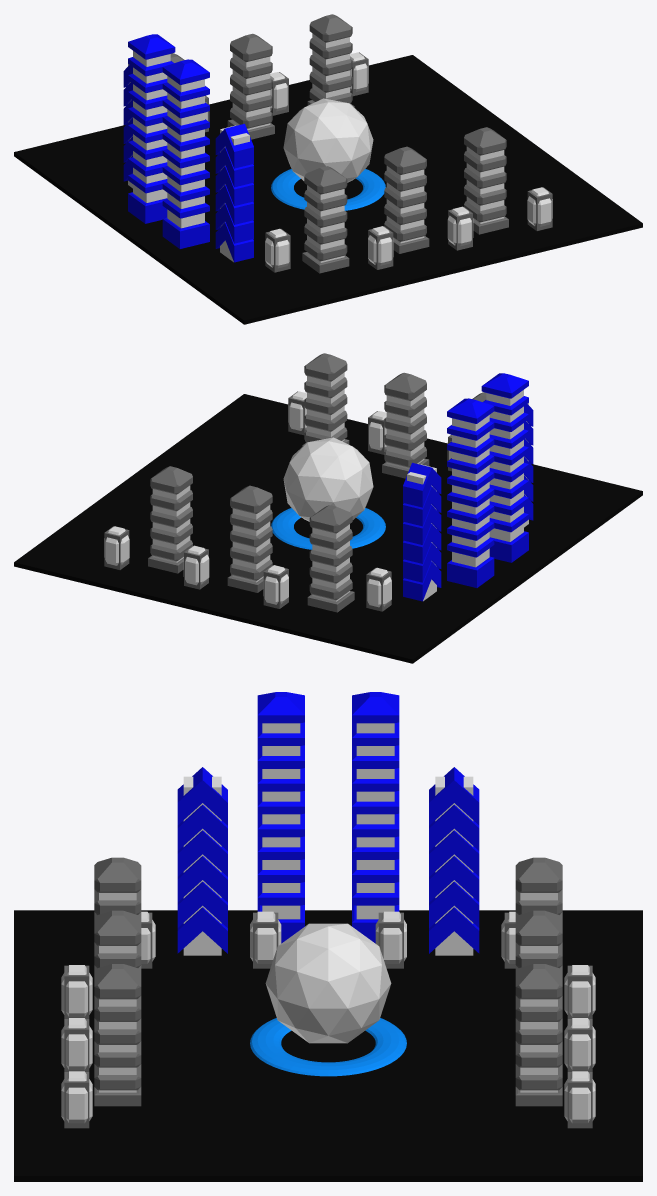
Rendered from CiudadVRDefninitivo.fbx.
3 views of the same model, one above another, from view 1: azimuth 30°, elevation 25°; view 2: azimuth 150°, elevation 25°; view 3: azimuth 270°, elevation 25° (orthographic). The views are drawn at different scales.
Visible parts, largest first — view 1: Cube, Icosphere, Cube.110, Cube.001, Torus, Cube.045, Cube.019, Cube.079, Cube.026, Cube.012, Cube.086, Cube.088 (+47 smaller); view 2: Cube, Icosphere, Cube.001, Cube.110, Torus, Cube.002, Cube.079, Cube.086, Cube.019, Cube.072, Cube.026, Cube.074 (+47 smaller); view 3: Cube, Icosphere, Torus, Cube.001, Cube.110, Cube.088, Cube.032, Cube.074, Cube.014, Cube.081, Cube.021, Cube.011 (+47 smaller).
Part boxes in pixels (x1,y1,x2,y2): Cube: [14, 55, 642, 324]; Icosphere: [283, 98, 373, 182]; Cube.110: [167, 76, 204, 228]; Cube.001: [133, 51, 170, 202]; Torus: [271, 169, 385, 210]; Cube.045: [162, 217, 209, 248]; Cube.019: [386, 166, 424, 243]; Cube.079: [232, 53, 270, 130]; Cube.026: [466, 146, 504, 223]; Cube.012: [307, 185, 344, 262]; Cube.086: [312, 33, 349, 102]; Cube.088: [309, 14, 352, 42]; Cube: [14, 394, 642, 663]; Icosphere: [283, 437, 373, 521]; Cube.001: [452, 415, 489, 567]; Cube.110: [486, 390, 523, 541]; Torus: [271, 508, 385, 549]; Cube.002: [447, 556, 494, 587]; Cube.079: [232, 505, 270, 582]; Cube.086: [152, 485, 190, 562]; Cube.019: [386, 392, 424, 469]; Cube.072: [312, 524, 349, 601]; Cube.026: [307, 372, 344, 441]; Cube.074: [309, 505, 352, 533]; Cube: [14, 910, 642, 1181]; Icosphere: [265, 923, 391, 1043]; Torus: [250, 1018, 406, 1076]; Cube.001: [356, 723, 394, 919]; Cube.110: [262, 723, 300, 919]; Cube.088: [515, 964, 562, 999]; Cube.032: [94, 964, 141, 999]; Cube.074: [515, 857, 562, 892]; Cube.014: [94, 857, 141, 892]; Cube.081: [515, 910, 562, 945]; Cube.021: [94, 910, 141, 945]; Cube.011: [352, 692, 399, 723].
Bounding box in the file's own units: 5000 × 2175 × 5000.
